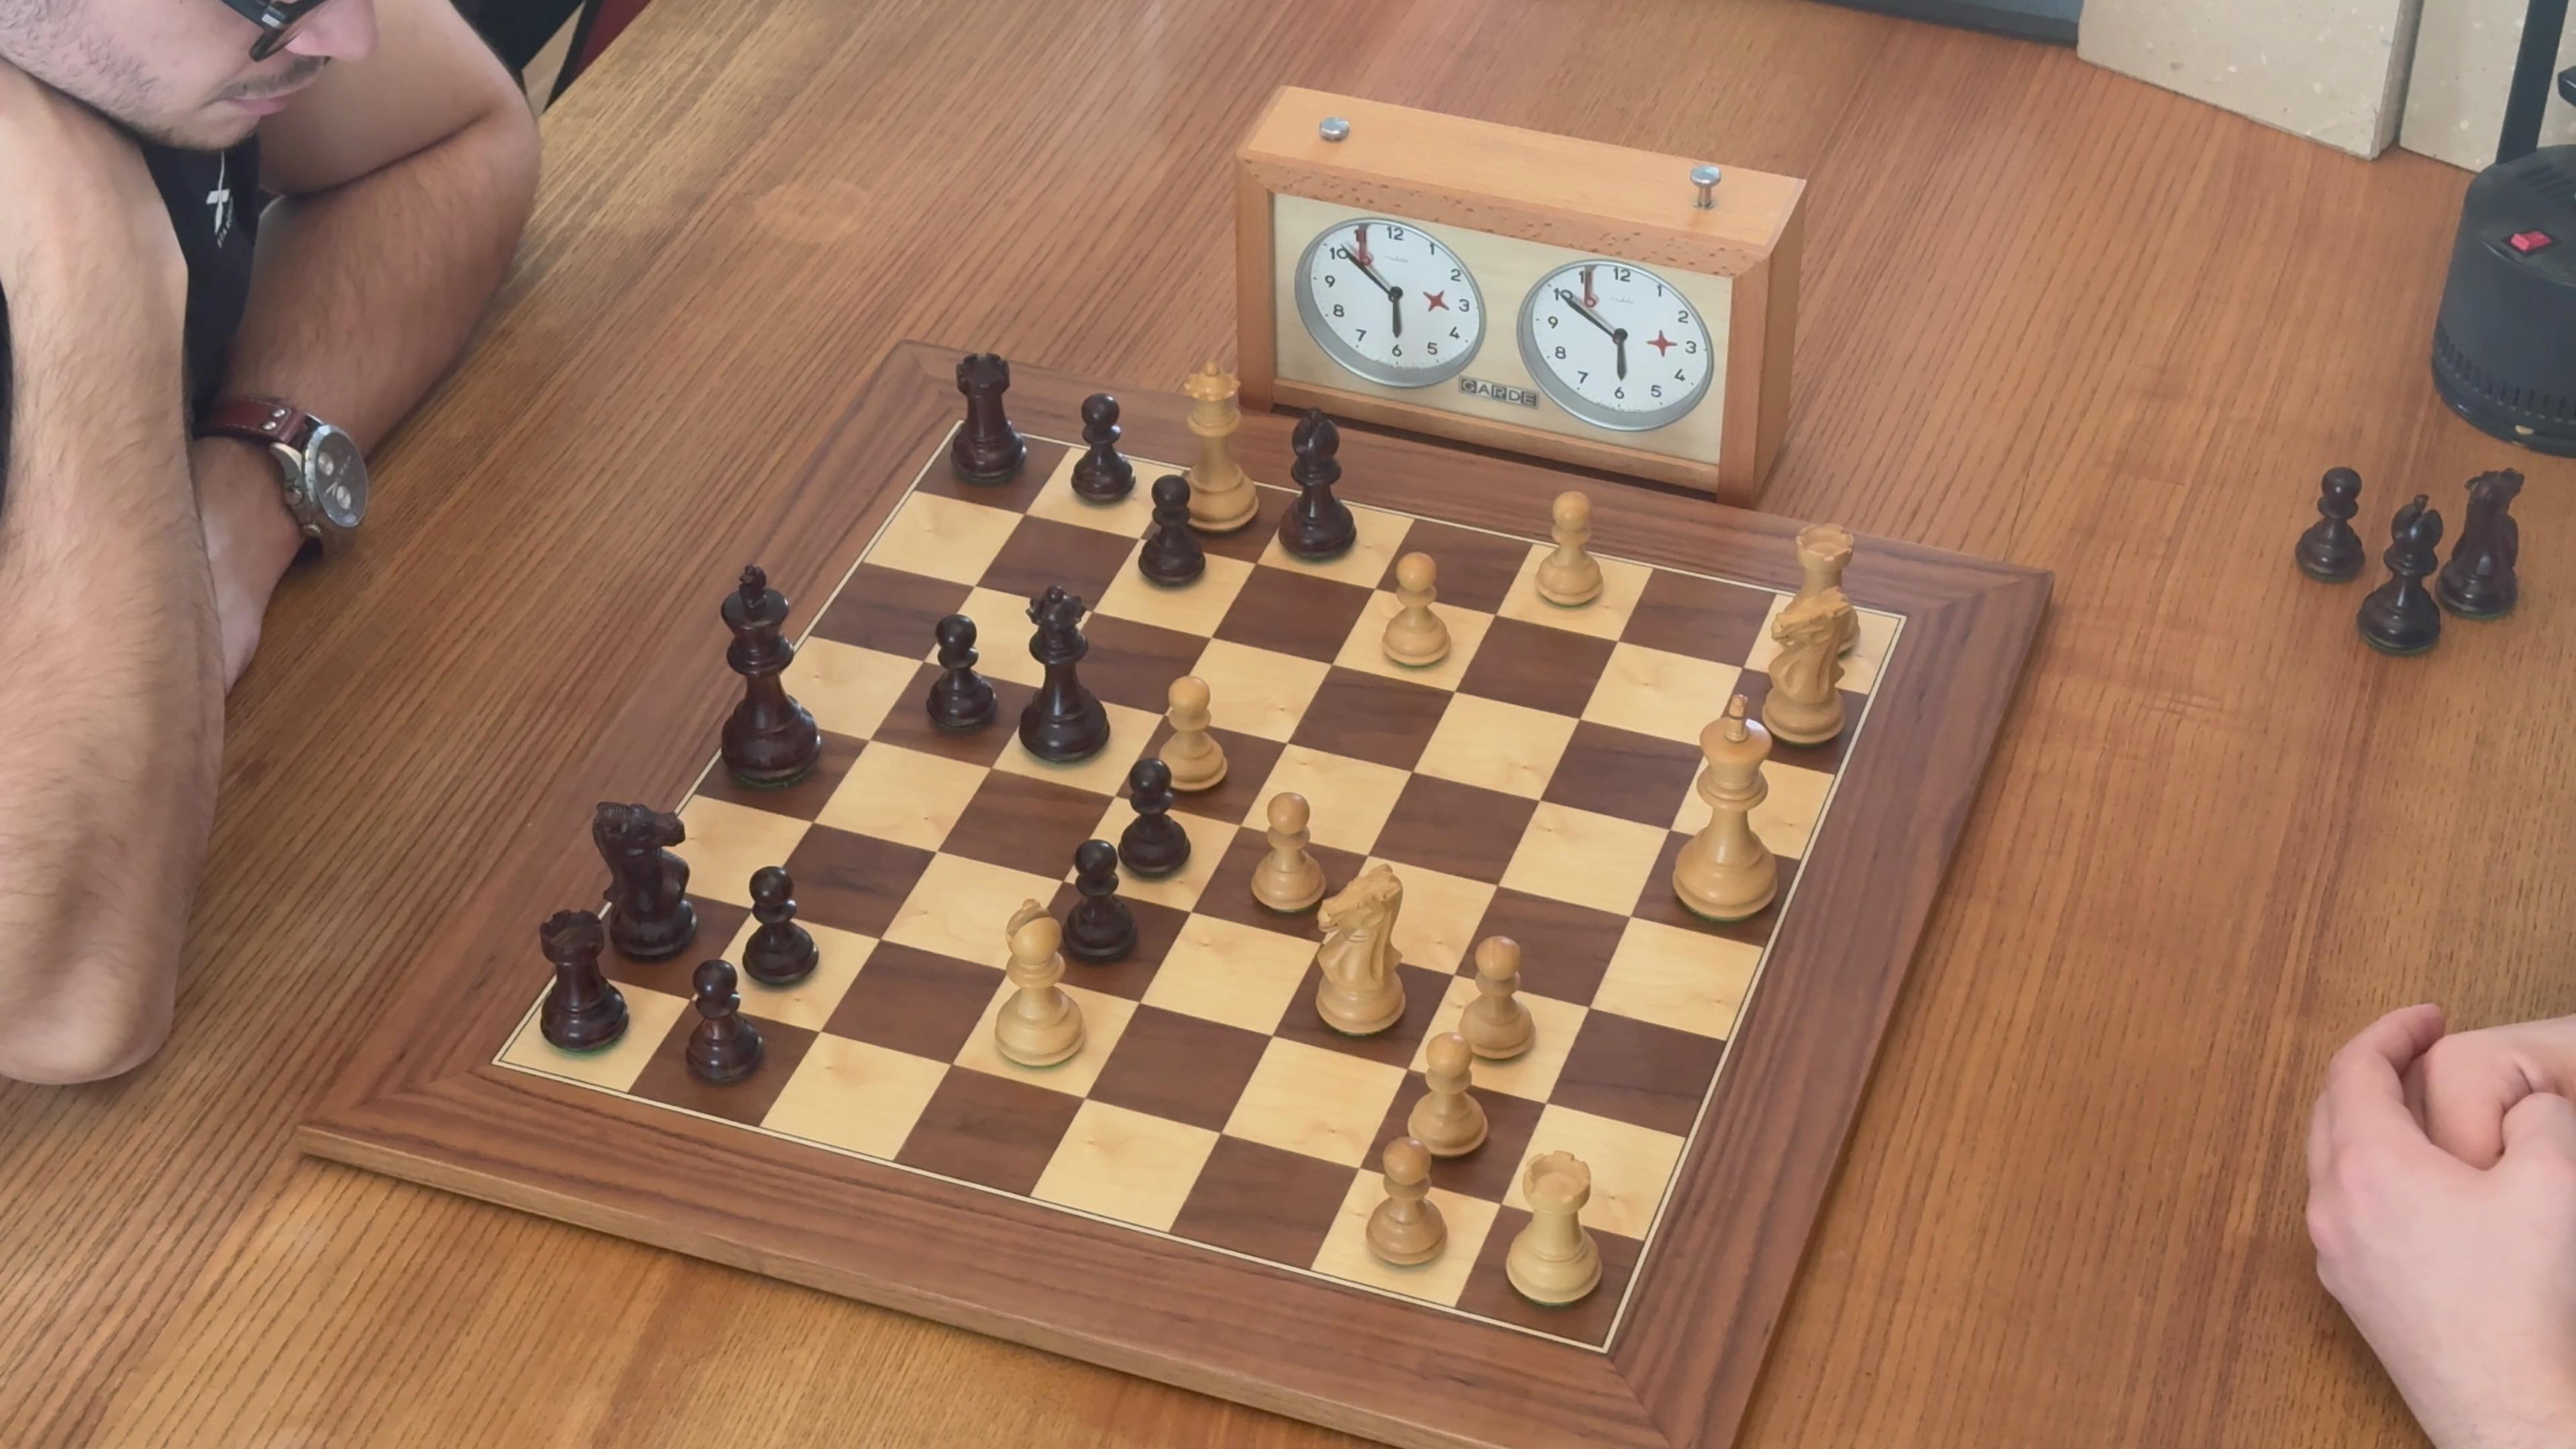right: (1315, 88, 1730, 221)
